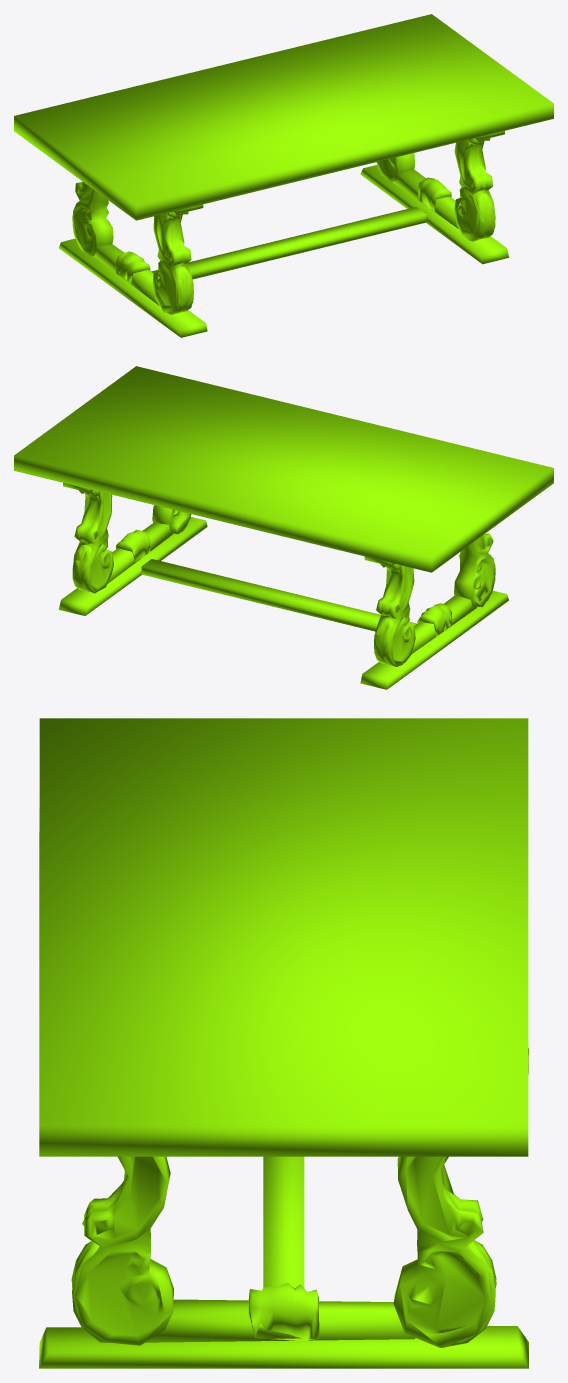
Rendered from table.fbx.
3 renders of one model, top to bottom at view 1: azimuth 30°, elevation 25°; view 2: azimuth 150°, elevation 25°; view 3: azimuth 270°, elevation 25°, orthographic. The views are drawn at different scales.
Parts seen in each view (by area): view 1: ROSALIE_COFFEE_TABLE_521_012_2N7; view 2: ROSALIE_COFFEE_TABLE_521_012_2N7; view 3: ROSALIE_COFFEE_TABLE_521_012_2N7.
Part boxes in pixels (x1,y1,x2,y2): ROSALIE_COFFEE_TABLE_521_012_2N7: (14,14,553,337); ROSALIE_COFFEE_TABLE_521_012_2N7: (14,366,553,689); ROSALIE_COFFEE_TABLE_521_012_2N7: (39,718,528,1368).
Bounding box in the file's own units: 880 × 289 × 447.
